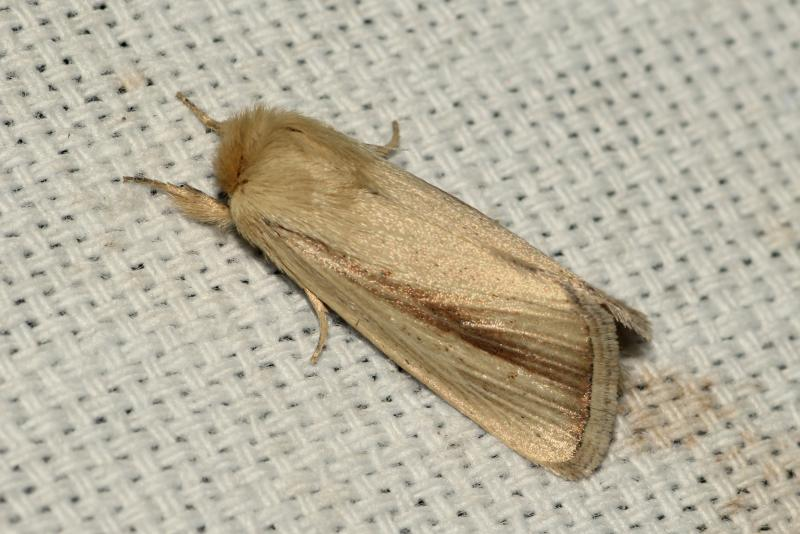Noctuidae: (113, 90, 652, 475)
